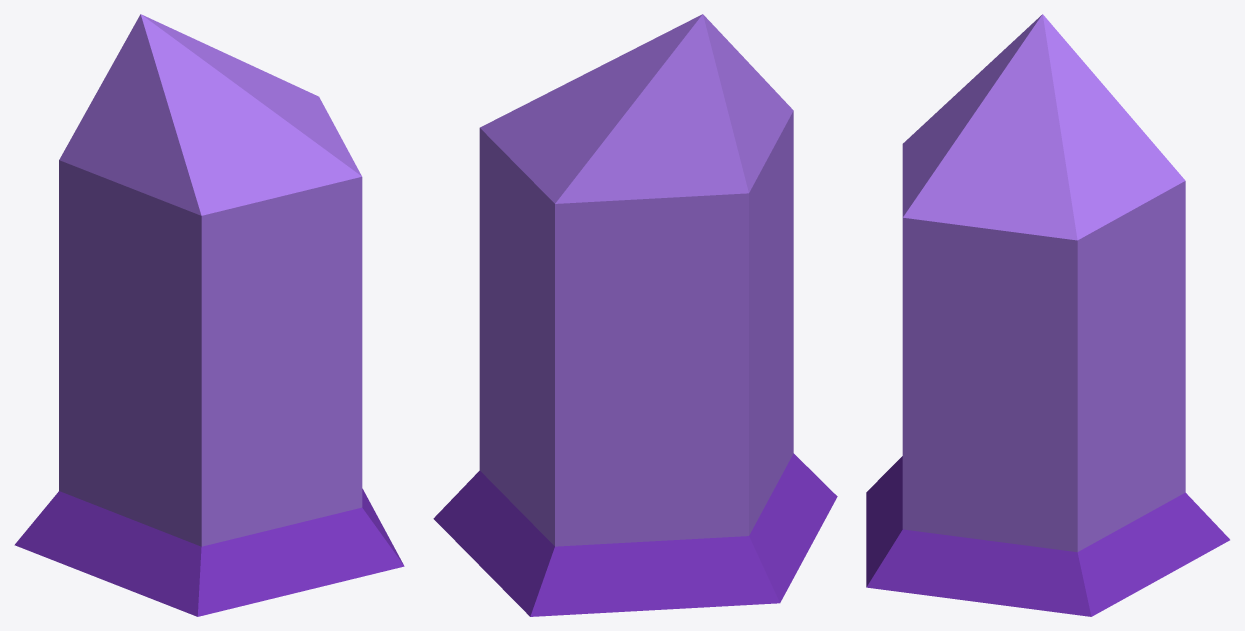
File: crystal_straight_002_grp.fbx
3 renders of one model, left to right at view 1: azimuth 30°, elevation 25°; view 2: azimuth 150°, elevation 25°; view 3: azimuth 270°, elevation 25°, orthographic. The views are drawn at different scales.
Parts seen in each view (by area): view 1: crystal_straight_002_grp; view 2: crystal_straight_002_grp; view 3: crystal_straight_002_grp.
Boxes of the visible parts, bbox=[...] form: crystal_straight_002_grp: bbox=[14, 14, 404, 616]; crystal_straight_002_grp: bbox=[433, 14, 837, 616]; crystal_straight_002_grp: bbox=[866, 14, 1229, 616].
Size of the model in its own units: 20 by 30 by 20.
